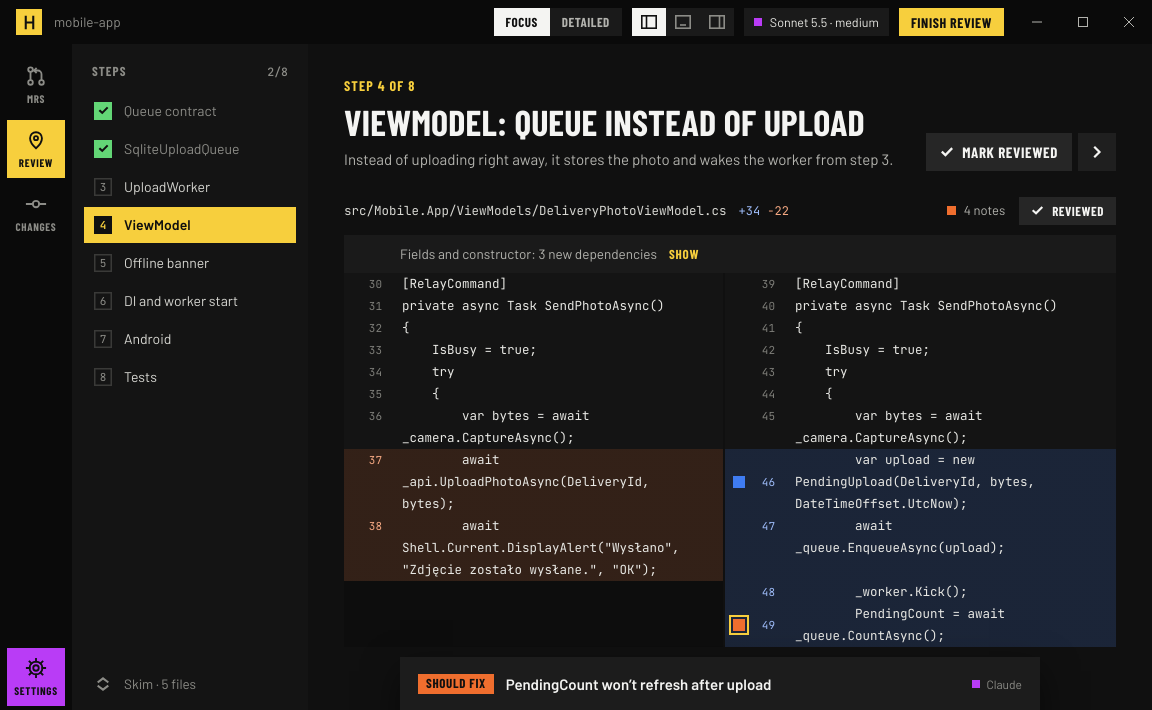
Scenario: Finish review › F-17.4 Finish review in a self-review opens its summary with the notes kept to fix
Check: the text "Step 4 of 8" is shown, box 344,77 -> 416,94
Click the button "Finish review" at (951,22), box 899,8 -> 1004,36
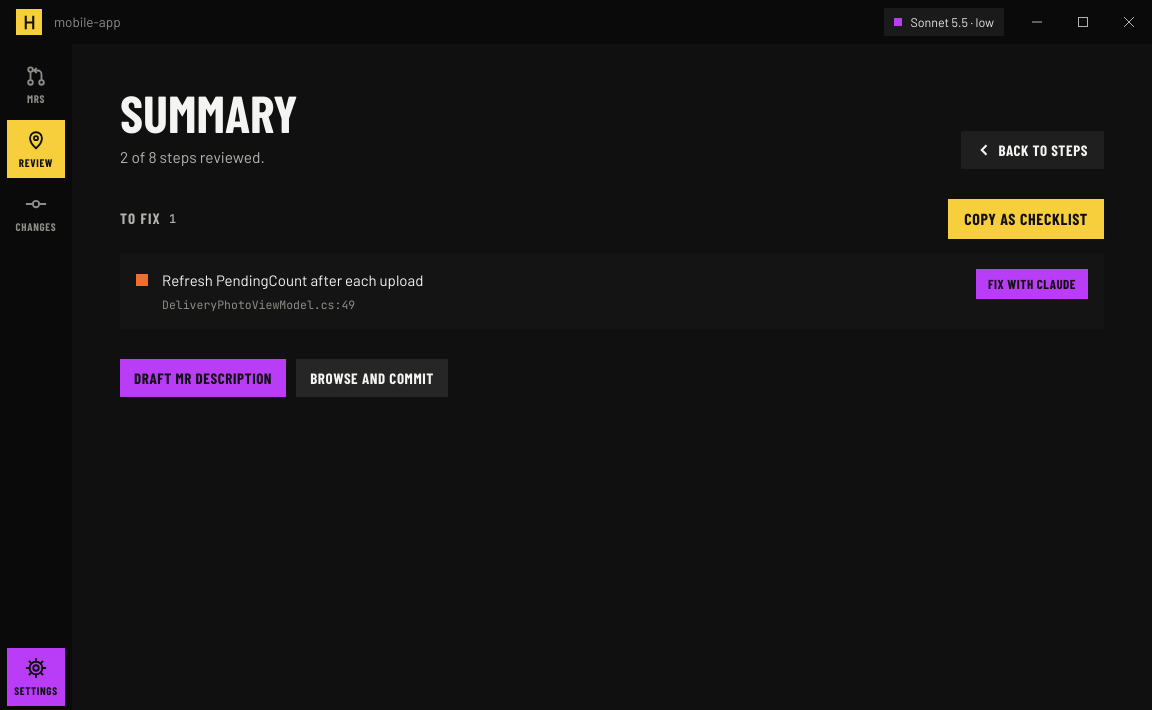
Check: the text "Refresh PendingCount after each upload" is shown, box 162,271 -> 423,289
Check: the text "2 of 8 steps reviewed." is shown, box 120,147 -> 265,166
Check: the button "Copy as checklist" is shown, box 948,199 -> 1104,239
